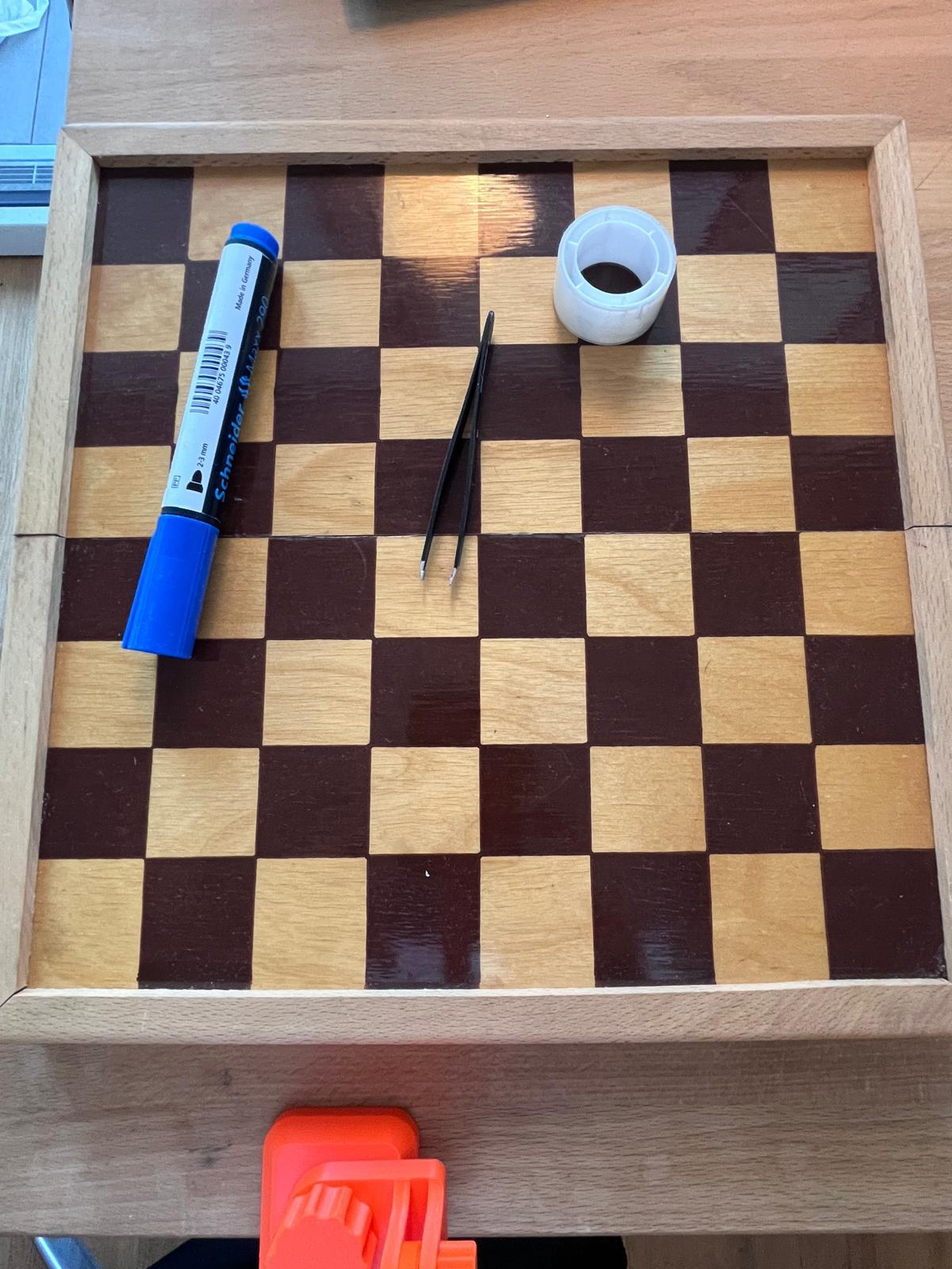marker: (119, 219, 279, 660)
tape: (552, 201, 674, 343)
tweezer: (419, 309, 497, 571)
